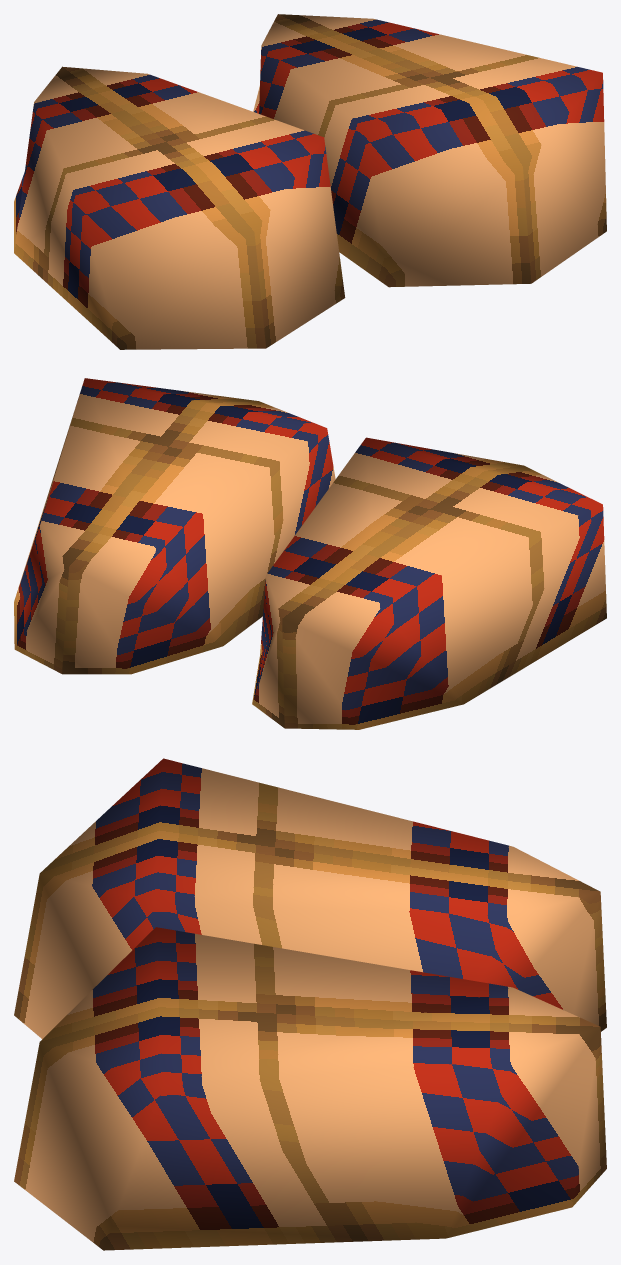
Rendered from 2793foot000_c.gltf.
The picture shows the model from 3 angles, top to bottom: view 1: azimuth 30°, elevation 25°; view 2: azimuth 150°, elevation 25°; view 3: azimuth 270°, elevation 25°; orthographic projection. The views are drawn at different scales.
Parts seen in each view (by area): view 1: 2793foot000_c; view 2: 2793foot000_c; view 3: 2793foot000_c.
Boxes of the visible parts, <box> form: 2793foot000_c: <box>14,14,606,349</box>; 2793foot000_c: <box>14,378,606,729</box>; 2793foot000_c: <box>14,758,606,1250</box>.
Bounding box in the file's own units: 0.4982 × 0.1298 × 0.3798.
Materials: 1 (1 with a texture image).
